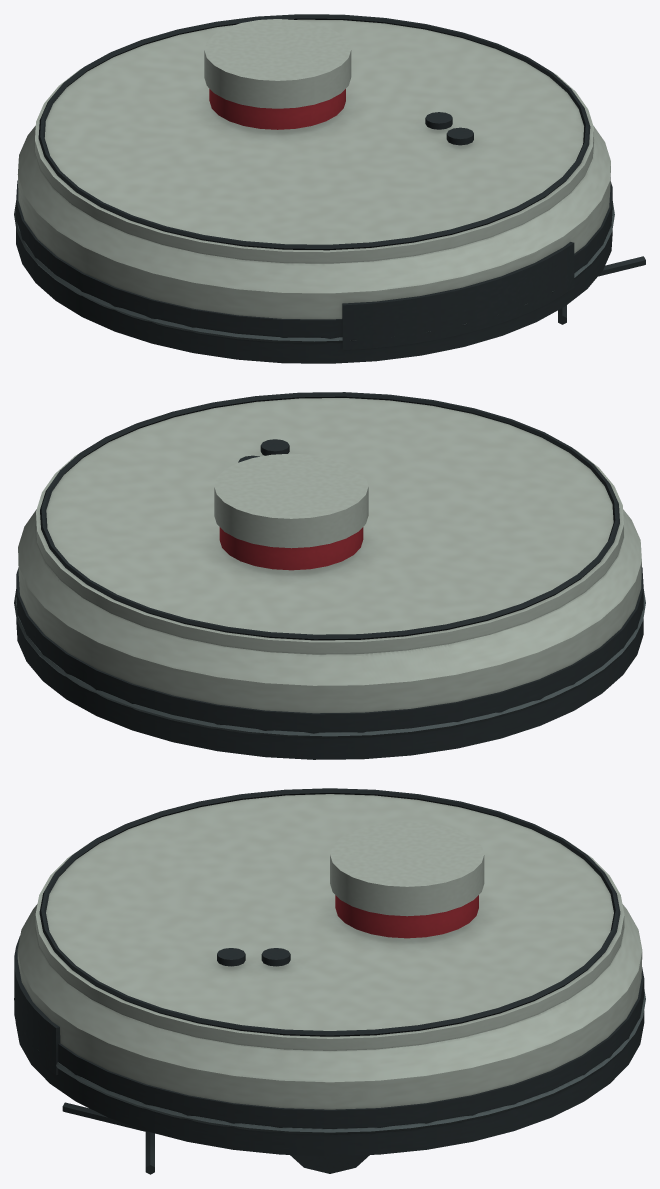
File: robot_vacuum.glb
3 views of the same model, one above another, from view 1: azimuth 30°, elevation 25°; view 2: azimuth 150°, elevation 25°; view 3: azimuth 270°, elevation 25° (orthographic). The views are drawn at different scales.
Visible parts, largest first — view 1: robot_vacuum_static_0, robot_vacuum_lidar_1, robot_vacuum_brush_4; view 2: robot_vacuum_static_0, robot_vacuum_lidar_1; view 3: robot_vacuum_static_0, robot_vacuum_lidar_1, robot_vacuum_drive_right_3, robot_vacuum_brush_4.
Part boxes in pixels (left/top/right/bottom): robot_vacuum_static_0: left=14, top=14, right=614, bottom=363; robot_vacuum_lidar_1: left=204, top=19, right=351, bottom=129; robot_vacuum_brush_4: left=558, top=256, right=645, bottom=324; robot_vacuum_static_0: left=14, top=392, right=645, bottom=759; robot_vacuum_lidar_1: left=214, top=453, right=368, bottom=570; robot_vacuum_static_0: left=14, top=788, right=645, bottom=1156; robot_vacuum_lidar_1: left=330, top=821, right=484, bottom=938; robot_vacuum_drive_right_3: left=290, top=1155, right=369, bottom=1173; robot_vacuum_brush_4: left=62, top=1102, right=154, bottom=1174.
Bounding box in the file's own units: 0.352 × 0.138 × 0.352.
2 materials, 1 textured.
